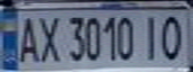0: (115, 12, 139, 61), (81, 14, 103, 62)
1: (100, 12, 118, 61)
3: (63, 12, 84, 62)
A: (15, 12, 42, 64)
I: (139, 11, 166, 62)
O: (157, 12, 190, 62)
X: (36, 11, 63, 63)
